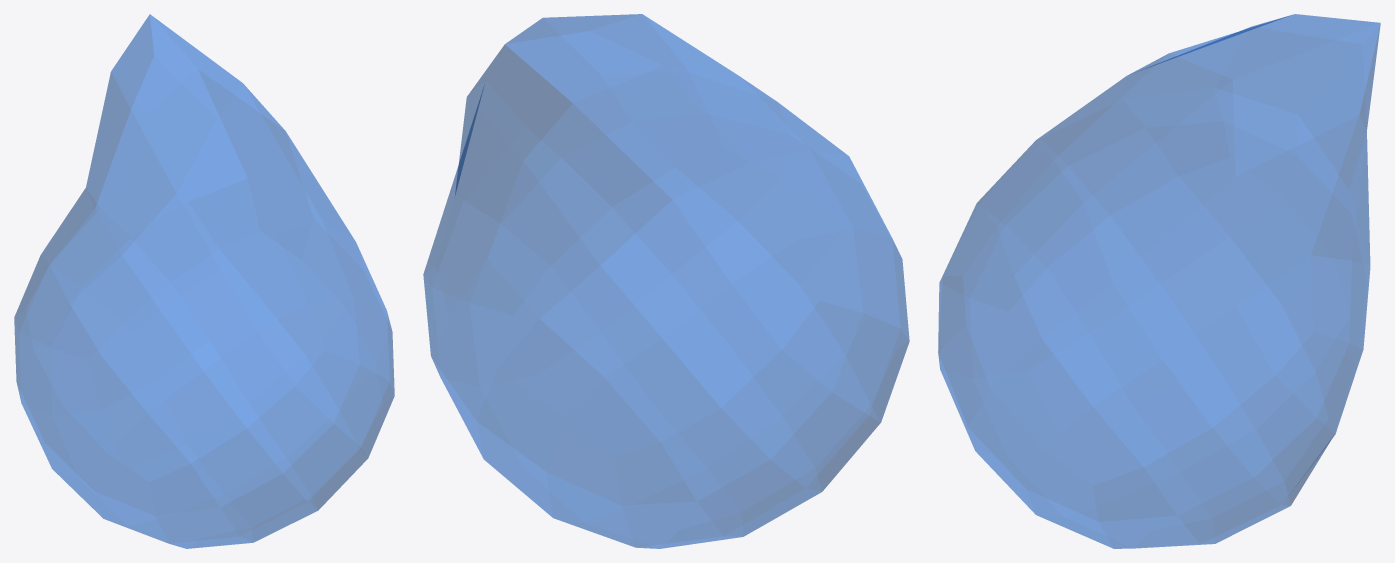
The model's file is DropOfWater.fbx.
3 views of the same model, side by side, from view 1: azimuth 30°, elevation 25°; view 2: azimuth 150°, elevation 25°; view 3: azimuth 270°, elevation 25° (orthographic). The views are drawn at different scales.
Visible parts, largest first — view 1: Cube; view 2: Cube; view 3: Cube.
Part boxes in pixels (left/top/right/bottom): Cube: left=14, top=14, right=394, bottom=548; Cube: left=423, top=14, right=909, bottom=548; Cube: left=938, top=14, right=1380, bottom=548.
Bounding box in the file's own units: 168 × 217 × 163.
